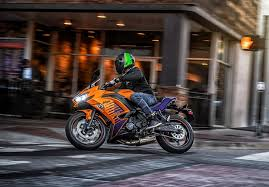motorcycle: (64, 73, 197, 154)
